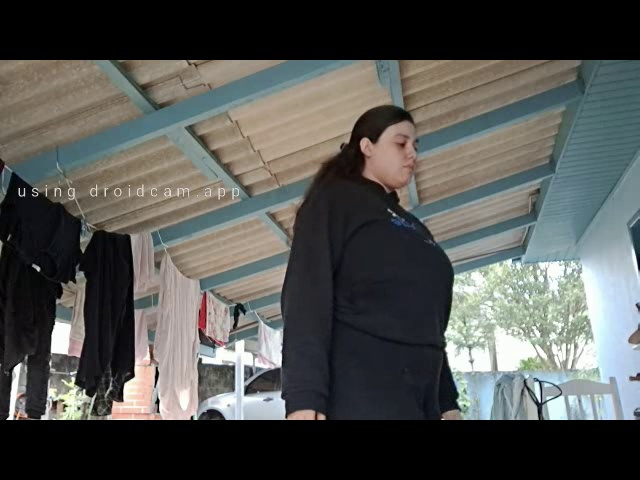MULHER: (328, 92, 457, 227)
